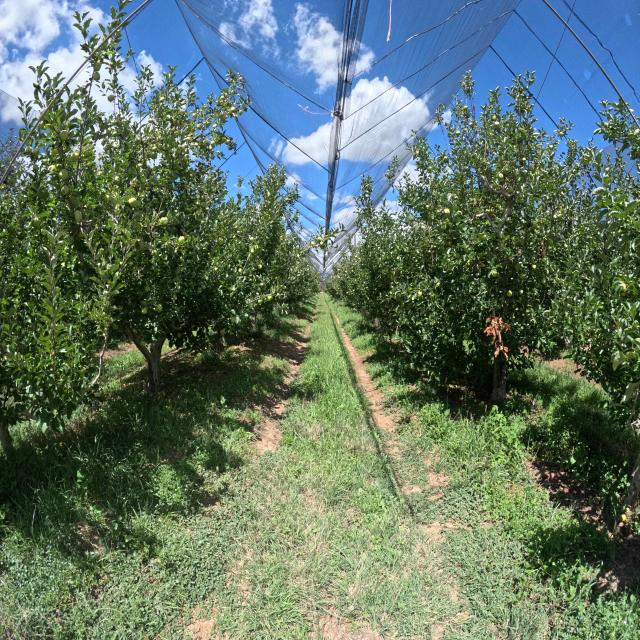-FireBlight-: (484, 315, 511, 360)
